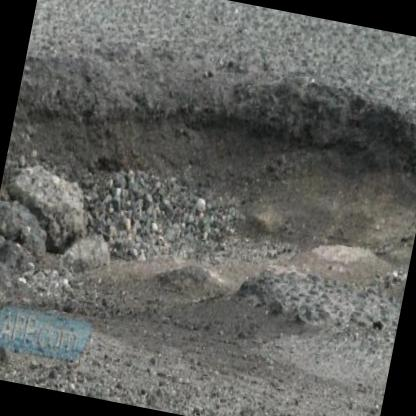pothole: (0, 15, 416, 376)
